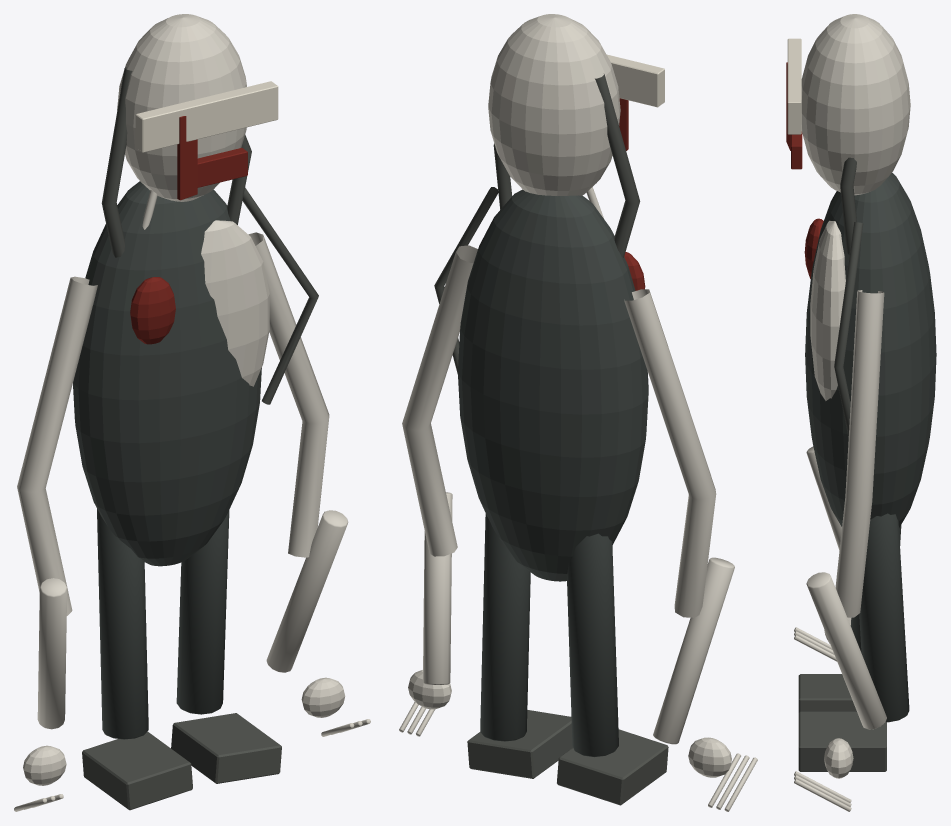
File: dz_enemy_blind_female_B.glb
3 views of the same model, side by side, from view 1: azimuth 30°, elevation 25°; view 2: azimuth 150°, elevation 25°; view 3: azimuth 270°, elevation 25° (orthographic). The views are drawn at different scales.
Parts seen in each view (by area): view 1: dz_torso_core, dz_head_forward, dz_limb_leg_L, dz_limb_arm_L, dz_limb_leg_R, dz_limb_arm_R, dz_chest_infected_growth, dz_foot_drag_L, dz_foot_drag_R, dz_blindfold_wrapped_exact, dz_limb_forearm_R, dz_limb_forearm_L (+8 smaller); view 2: dz_torso_core, dz_head_forward, dz_limb_leg_L, dz_limb_arm_L, dz_limb_leg_R, dz_limb_arm_R, dz_foot_drag_L, dz_limb_forearm_L, dz_foot_drag_R, dz_limb_forearm_R, dz_hair_clump_left, dz_blindfold_wrapped_exact (+3 smaller); view 3: dz_torso_core, dz_head_forward, dz_limb_arm_R, dz_limb_leg_R, dz_chest_infected_growth, dz_limb_forearm_R, dz_foot_drag_R, dz_variant_B_loose_cable_or_hair, dz_foot_drag_L, dz_blindfold_wrapped_exact, dz_hair_clump_right, dz_hand_claw_R (+4 smaller).
Part boxes in pixels (x1,y1,x2,y2): dz_torso_core: (73, 181, 261, 566); dz_head_forward: (117, 14, 246, 201); dz_limb_leg_L: (97, 509, 148, 739); dz_limb_arm_L: (17, 276, 97, 615); dz_limb_leg_R: (176, 510, 229, 714); dz_limb_arm_R: (248, 232, 329, 557); dz_chest_infected_growth: (201, 220, 269, 386); dz_foot_drag_L: (82, 731, 192, 810); dz_foot_drag_R: (171, 713, 281, 783); dz_blindfold_wrapped_exact: (135, 81, 278, 152); dz_limb_forearm_R: (266, 510, 348, 672); dz_limb_forearm_L: (37, 578, 67, 729); dz_torso_core: (457, 189, 648, 581); dz_head_forward: (488, 14, 620, 195); dz_limb_leg_L: (566, 533, 618, 757); dz_limb_arm_L: (624, 289, 716, 617); dz_limb_leg_R: (480, 513, 530, 741); dz_limb_arm_R: (402, 245, 477, 556); dz_foot_drag_L: (557, 729, 668, 805); dz_limb_forearm_L: (653, 557, 734, 744); dz_foot_drag_R: (467, 710, 572, 778); dz_limb_forearm_R: (423, 492, 452, 684); dz_hair_clump_left: (595, 74, 640, 257); dz_blindfold_wrapped_exact: (606, 54, 664, 107); dz_torso_core: (805, 173, 936, 527); dz_head_forward: (801, 14, 910, 195); dz_limb_arm_R: (835, 290, 884, 617); dz_limb_leg_R: (859, 513, 909, 722); dz_chest_infected_growth: (810, 220, 845, 400); dz_limb_forearm_R: (806, 572, 886, 729); dz_foot_drag_R: (798, 711, 886, 771); dz_variant_B_loose_cable_or_hair: (834, 222, 863, 436); dz_foot_drag_L: (798, 674, 856, 712); dz_blindfold_wrapped_exact: (787, 38, 801, 134); dz_hair_clump_right: (840, 157, 856, 254); dz_hand_claw_R: (824, 738, 853, 778).
Size of what is drawn, in the model's own units: 0.9083 by 1.99 by 0.3747.
